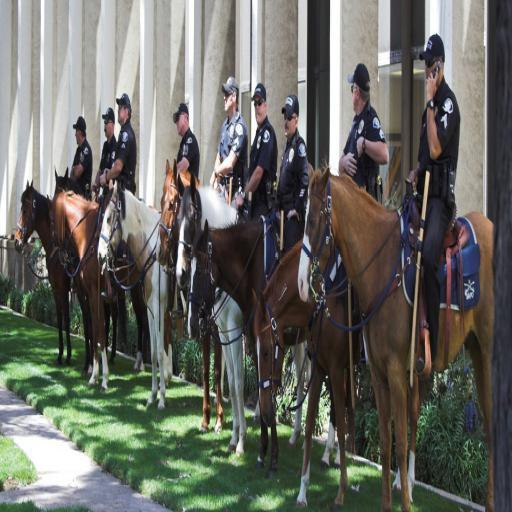horse: (12, 153, 494, 511)
